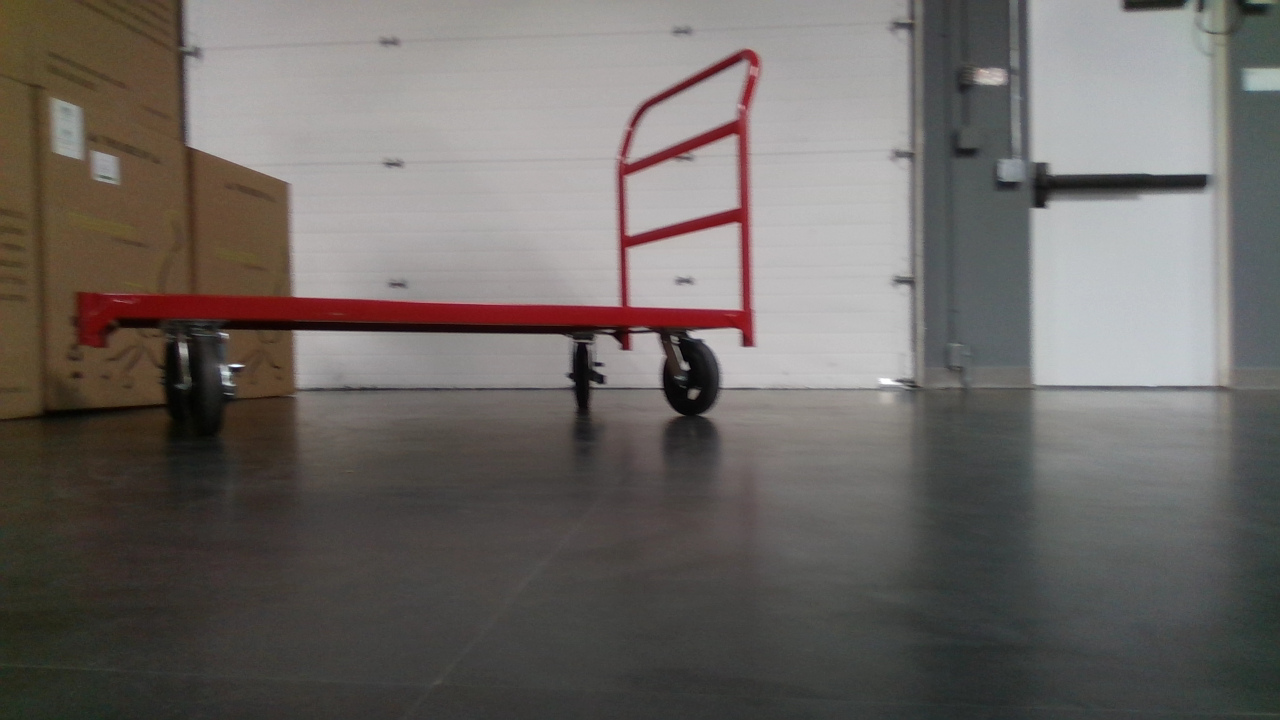Dolly: (73, 47, 762, 433)
Wheel: (662, 340, 721, 416), (186, 339, 222, 429), (161, 338, 185, 419), (570, 343, 592, 407)
